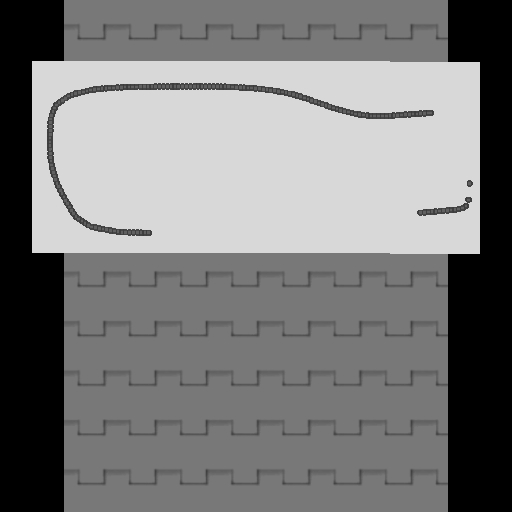Defect: (150, 203, 420, 242)
